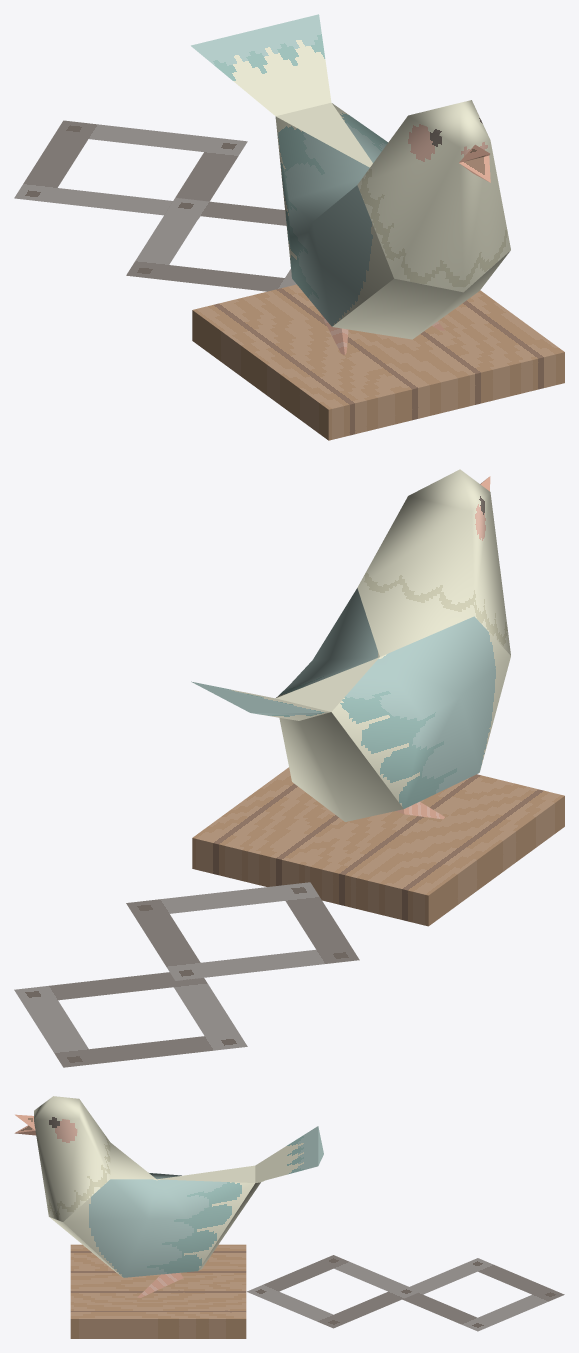
Rendered from 04bf_Cuckoo.glb.
3 views of the same model, one above another, from view 1: azimuth 30°, elevation 25°; view 2: azimuth 150°, elevation 25°; view 3: azimuth 270°, elevation 25° (orthographic). The views are drawn at different scales.
Parts seen in each view (by area): view 1: part_0; view 2: part_0; view 3: part_0.
Boxes of the visible parts, x1,y1,x2,y2 form: part_0: [14, 14, 564, 440]; part_0: [14, 469, 564, 1067]; part_0: [14, 1096, 564, 1338].
Bounding box in the file's own units: 0.04 × 0.0516 × 0.1253.
Materials: 1 (1 with a texture image).
